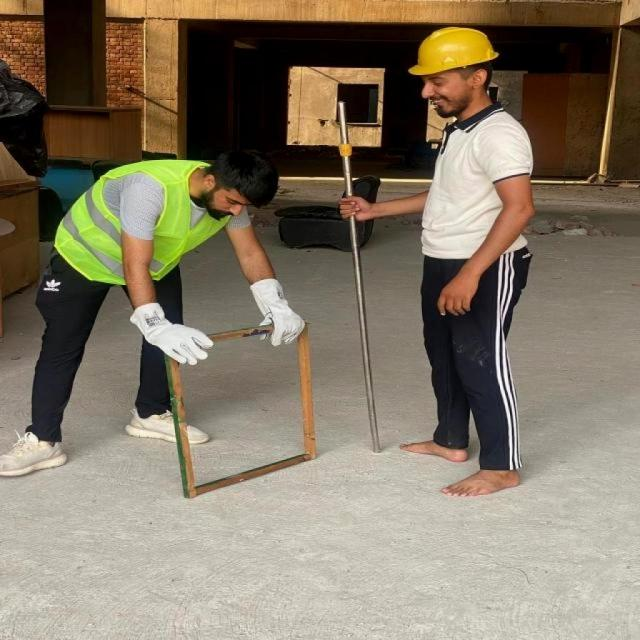Gloves-Detection: (118, 300, 210, 368), (234, 276, 313, 346)
